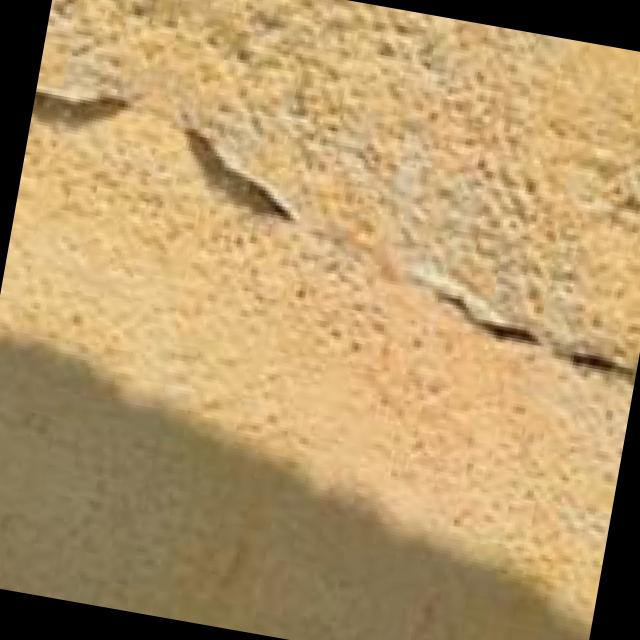crack: (6, 25, 640, 385)
